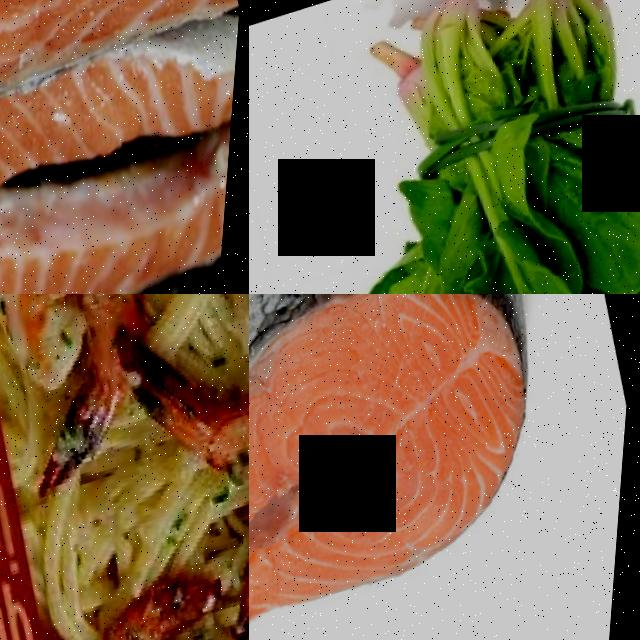salmon: (249, 294, 617, 640), (0, 0, 186, 156)
spinach: (106, 294, 249, 509), (0, 294, 150, 469), (421, 226, 614, 294), (550, 149, 640, 294), (81, 570, 249, 640)
